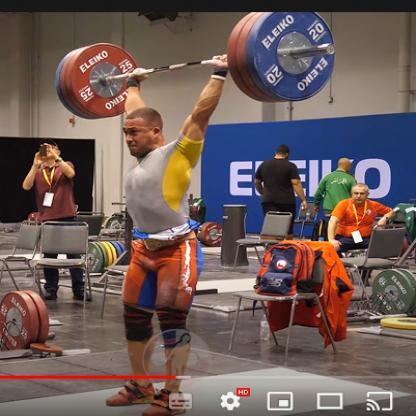Barbell: (44, 44, 148, 122)
